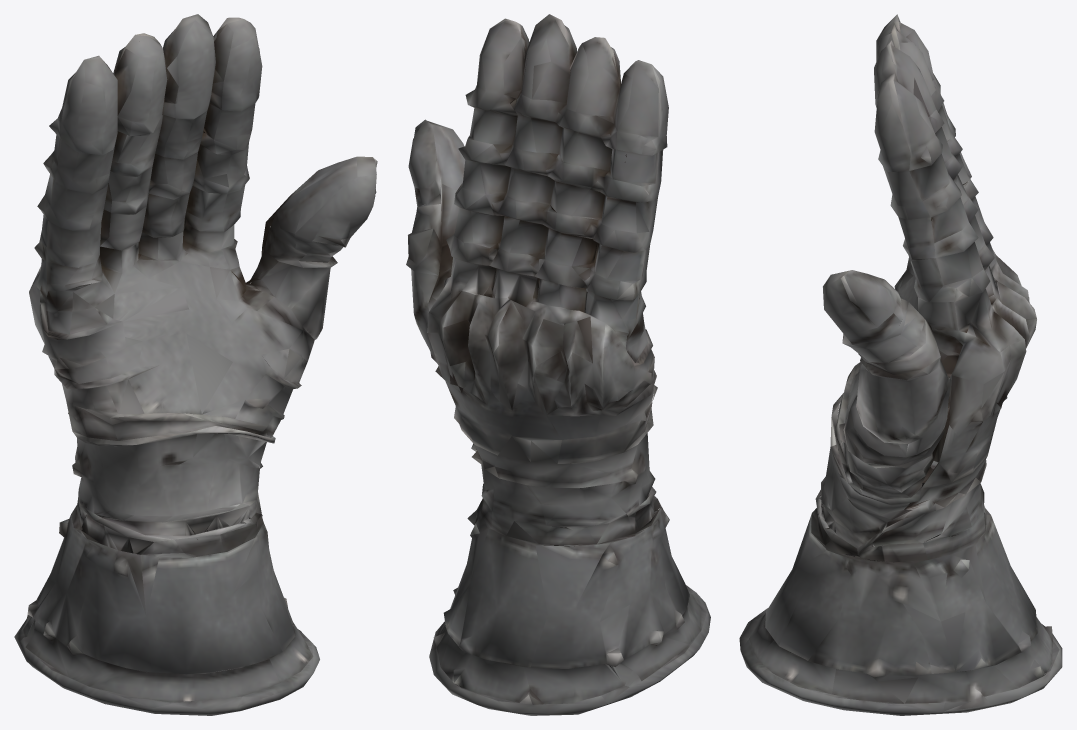
Rendered from gauntlet-v3b-prepped.glb.
3 renders of one model, left to right at view 1: azimuth 30°, elevation 25°; view 2: azimuth 150°, elevation 25°; view 3: azimuth 270°, elevation 25°, orthographic. The views are drawn at different scales.
Visible parts, largest first — view 1: gauntlet; view 2: gauntlet; view 3: gauntlet.
Boxes of the visible parts, x1,y1,x2,y2 form: gauntlet: (14, 14, 377, 715); gauntlet: (406, 14, 710, 715); gauntlet: (739, 14, 1062, 715).
Bounding box in the file's own units: 0.4938 × 1 × 0.4632.
Materials: 1 (1 with a texture image).
